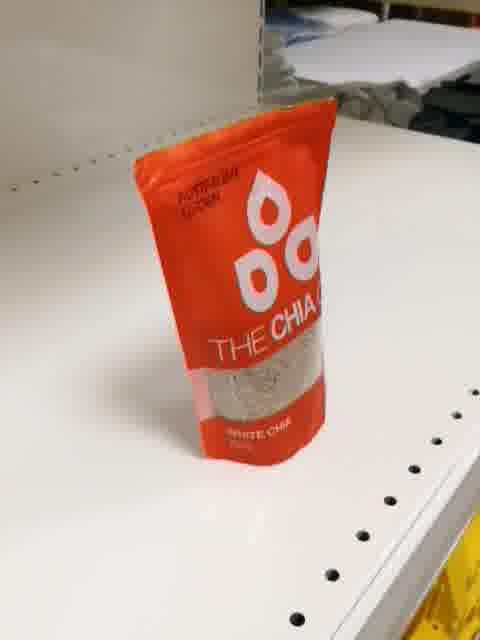whitechia: (128, 95, 340, 468)
